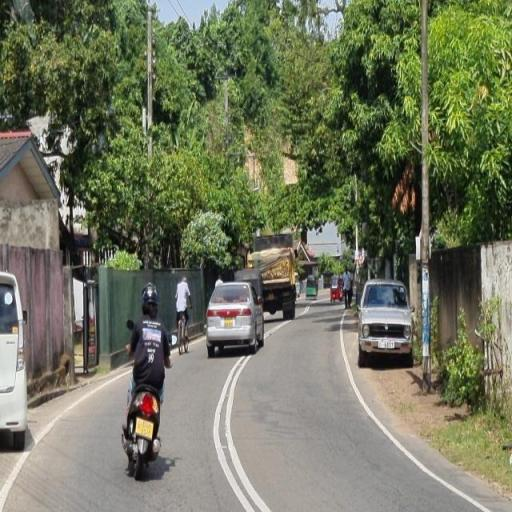double_white_line: (337, 317, 493, 512), (213, 357, 271, 512)
